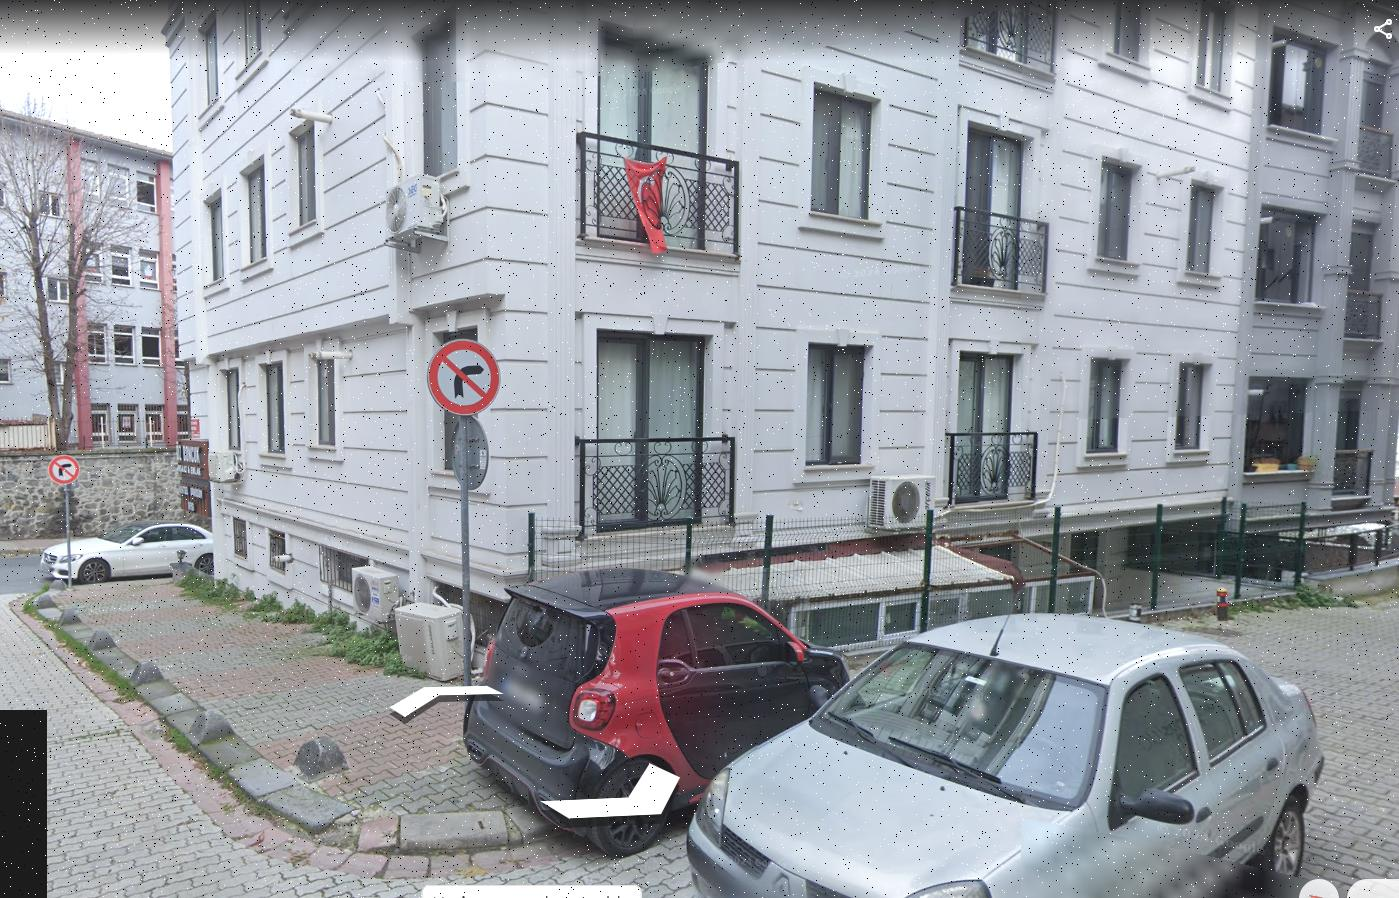rightturnsareforbidden: (431, 340, 494, 414)
